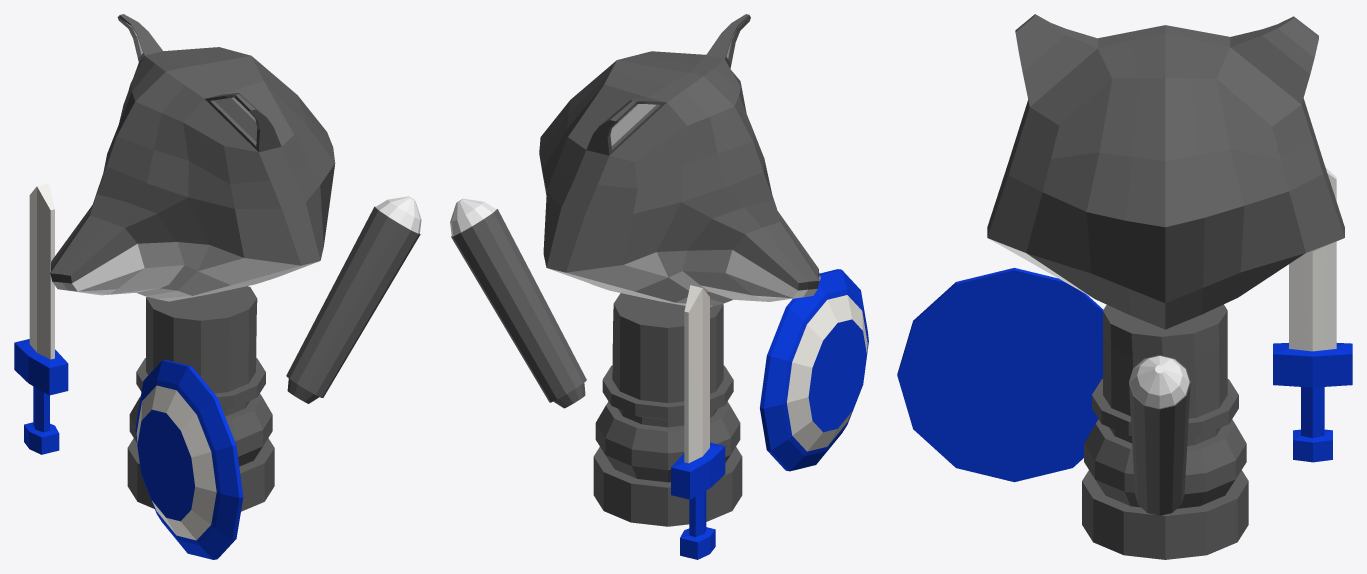
The model's file is SoldierWolf.fbx.
The picture shows the model from 3 angles, left to right: view 1: azimuth 30°, elevation 25°; view 2: azimuth 150°, elevation 25°; view 3: azimuth 270°, elevation 25°; orthographic projection. The views are drawn at different scales.
Parts seen in each view (by area): view 1: Plane; view 2: Plane; view 3: Plane.
Part boxes in pixels (<box>): Plane: <box>14,14,421,559</box>; Plane: <box>450,14,868,559</box>; Plane: <box>897,14,1352,559</box>.
Size of the model in its own units: 87.83 by 101 by 83.54.
2 materials, 1 textured.
